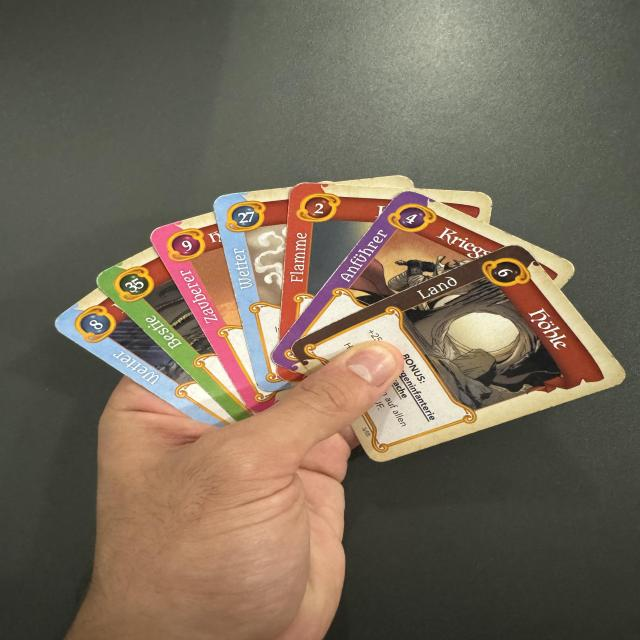Basilisk: (96, 247, 254, 422)
Beast Master: (149, 211, 263, 411)
Candle: (278, 182, 403, 343)
Rainstorm: (57, 288, 236, 428)
Smoke: (212, 187, 291, 392)
Underground Caverns: (289, 243, 634, 467)
Warlord: (270, 192, 523, 365)
